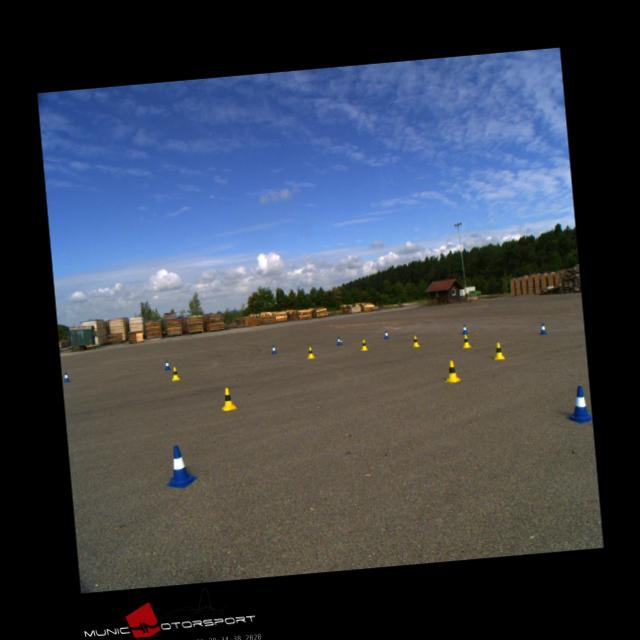blue_cone: (163, 444, 196, 487), (563, 384, 592, 424), (538, 322, 546, 334), (62, 371, 70, 382), (163, 360, 170, 370), (462, 324, 468, 334), (270, 344, 276, 354), (383, 329, 389, 338), (336, 336, 342, 344)
yellow_cone: (442, 358, 460, 382), (220, 386, 237, 410), (492, 342, 503, 358), (460, 333, 470, 348), (170, 366, 179, 380), (306, 345, 314, 358), (360, 338, 368, 351), (411, 334, 418, 347)
